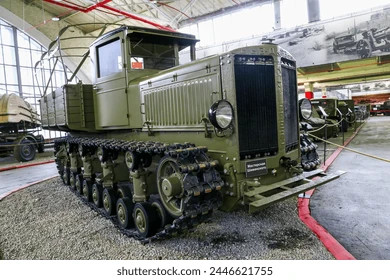tractor: (39, 24, 348, 245)
